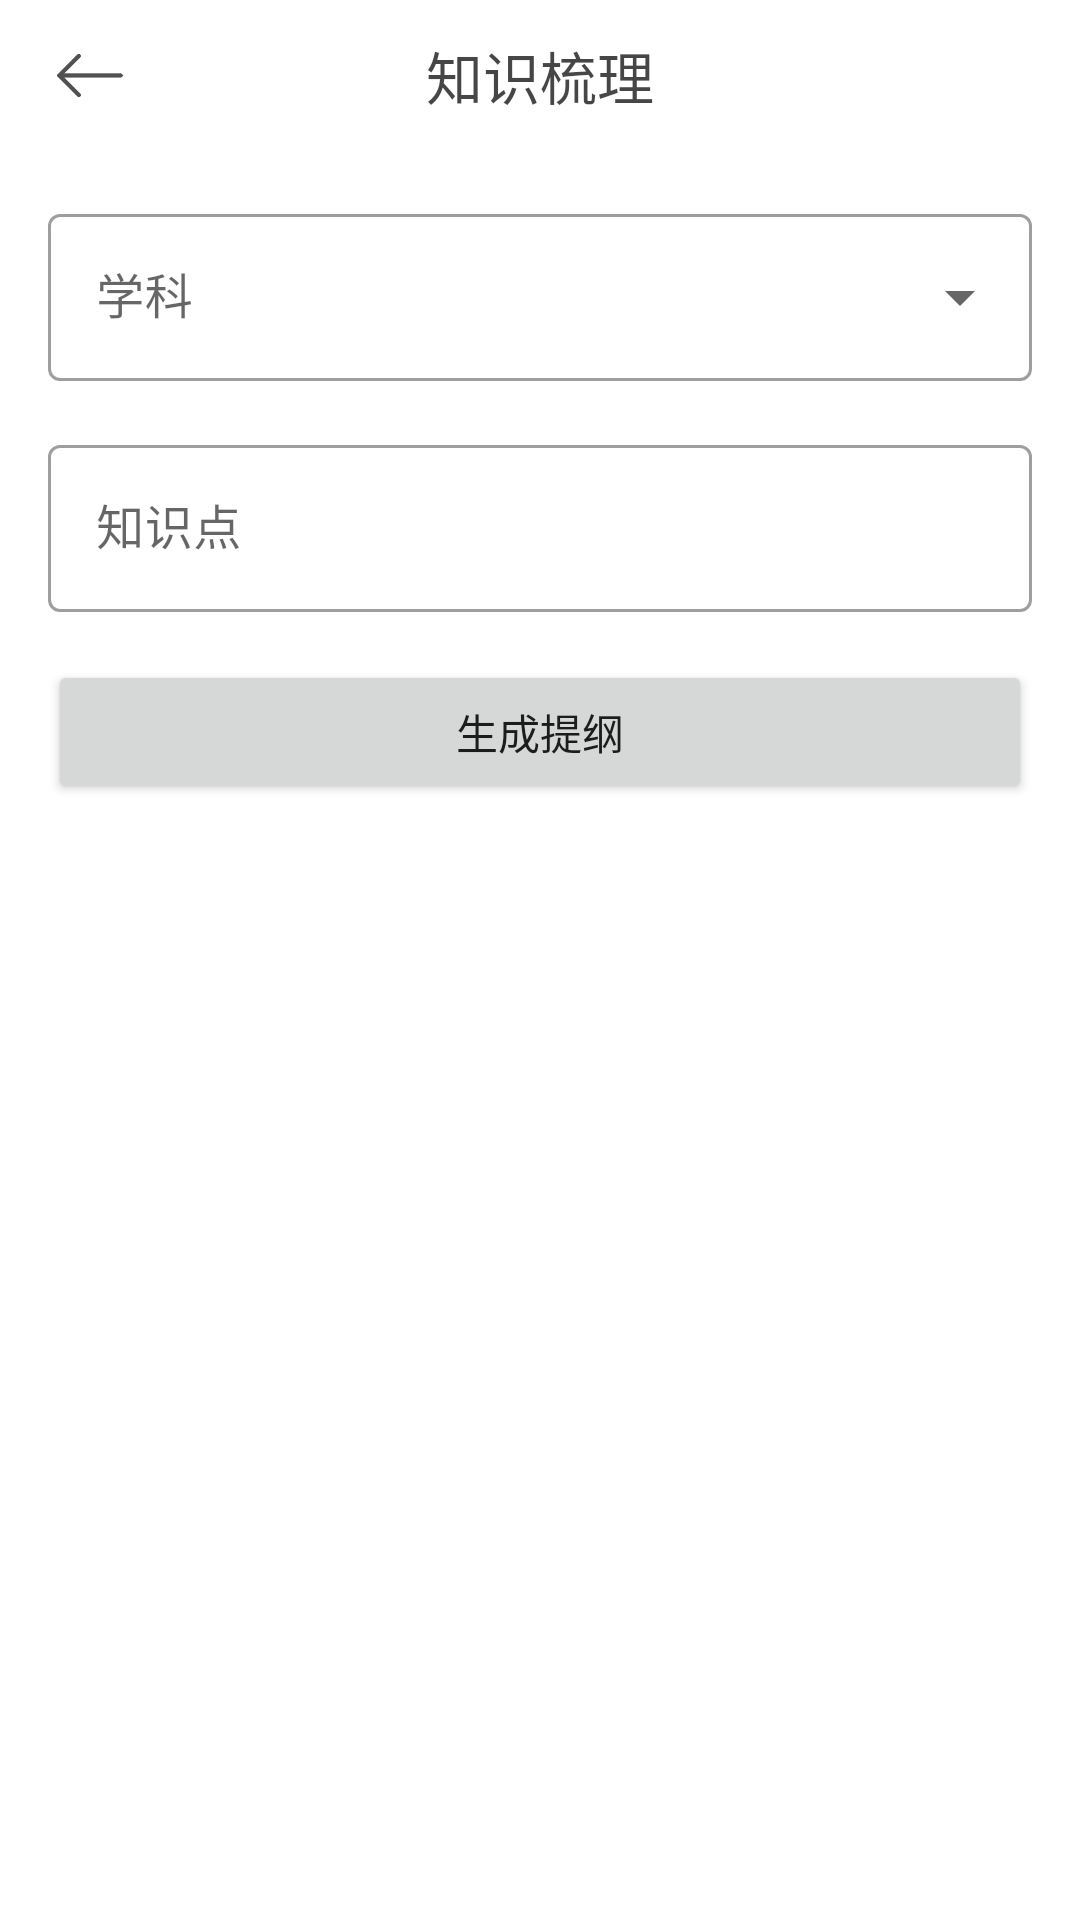

Icons on this 1080px x 1920px Android screen, each with its box as BBox(x1, y1, x2, y2):
backward arrow: BBox(57, 54, 123, 97)
